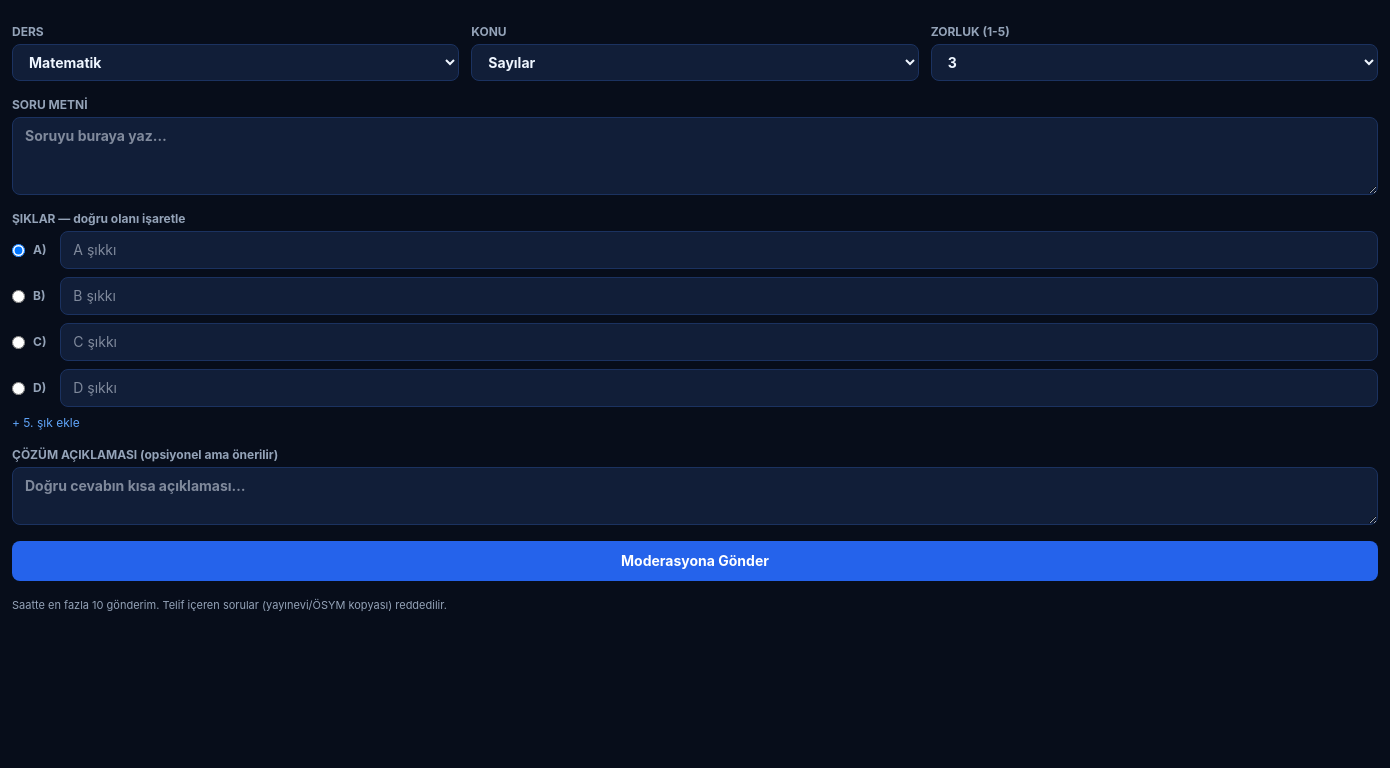
SubmitQuestionClient › 5. şık ekle/kaldır; kaldırınca answer=4 sıfırlanır
Click the button "+ 5. şık ekle". click: (46, 423)
box: [12,415,80,431]
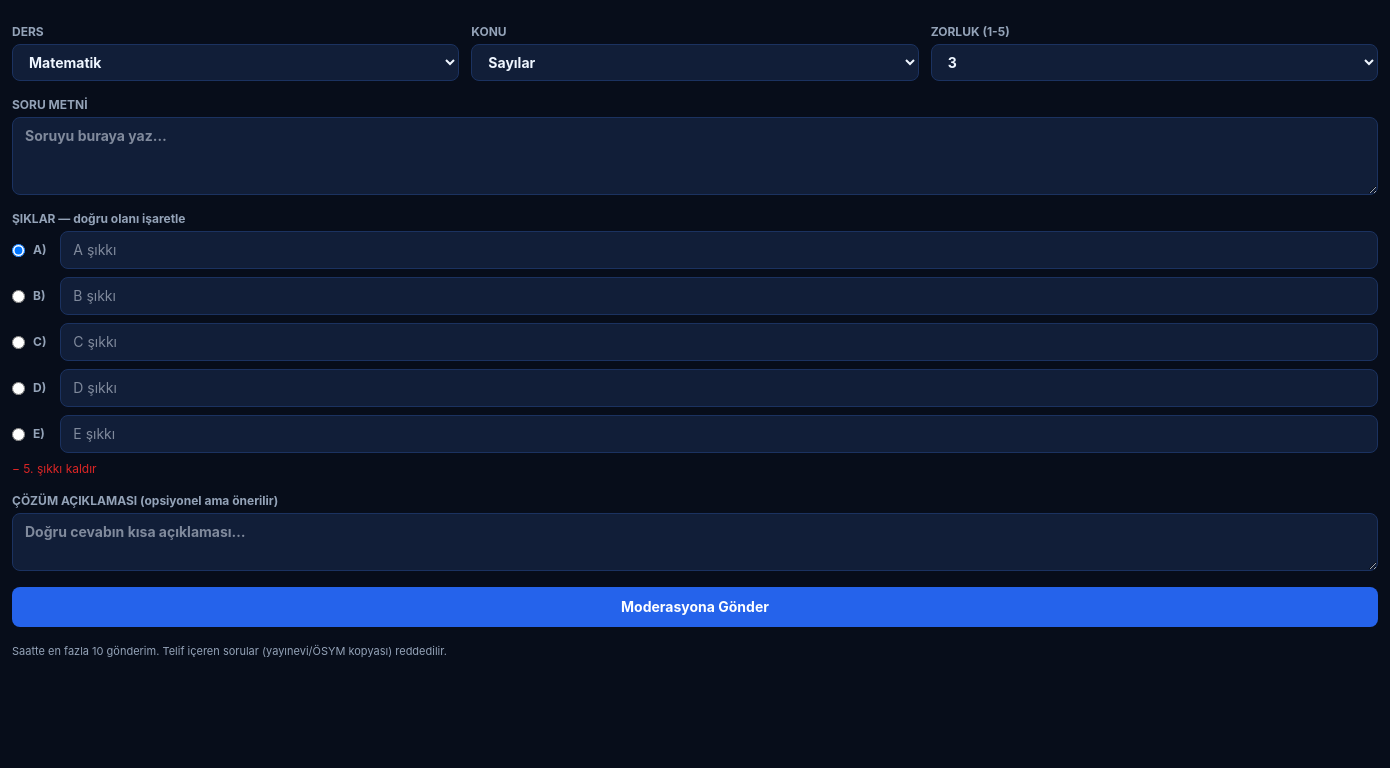
Expected: the field with placeholder "E şıkkı" is shown, [60,415,1378,453]
Click the radio button named "Doğru cevap E". click: (18, 434)
box: [12,428,25,440]
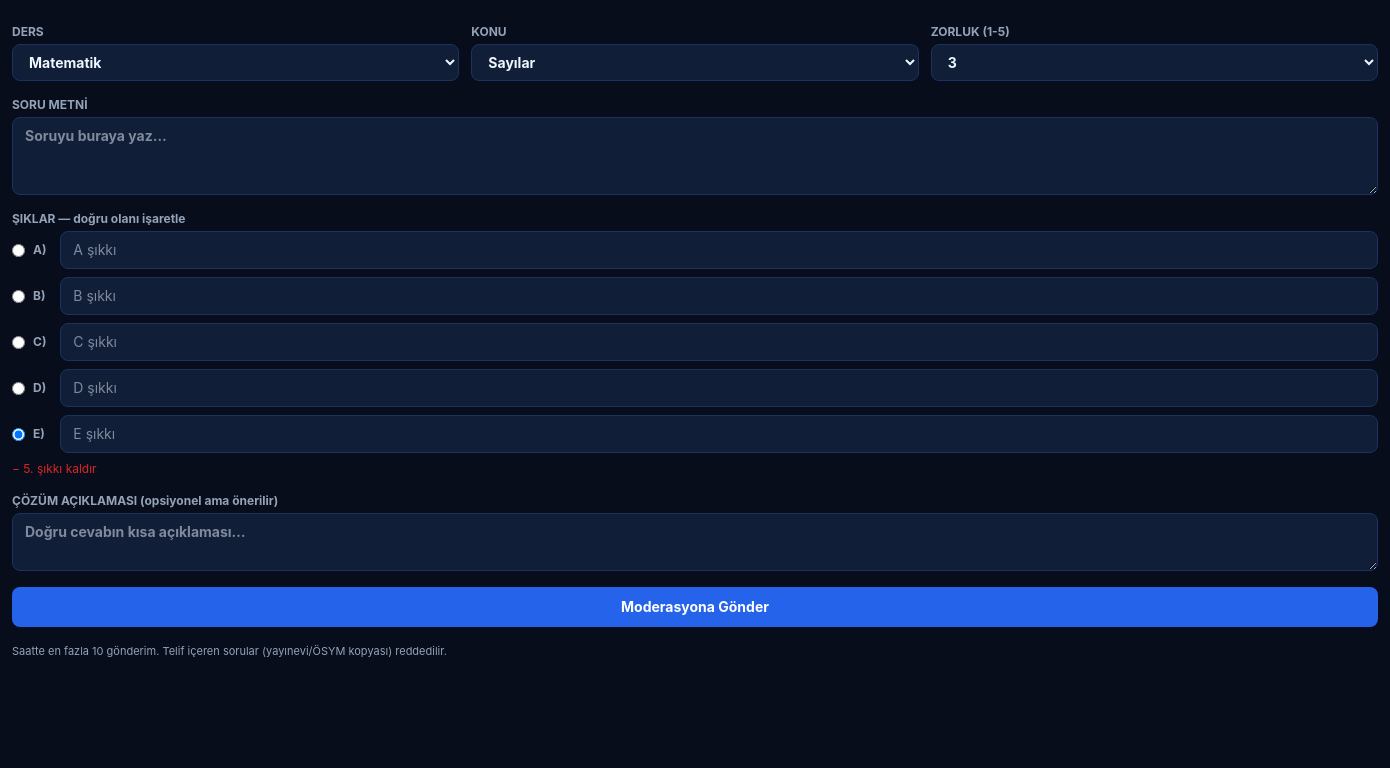
Click the button "− 5. şıkkı kaldır". click: (54, 469)
box: [12,461,97,477]
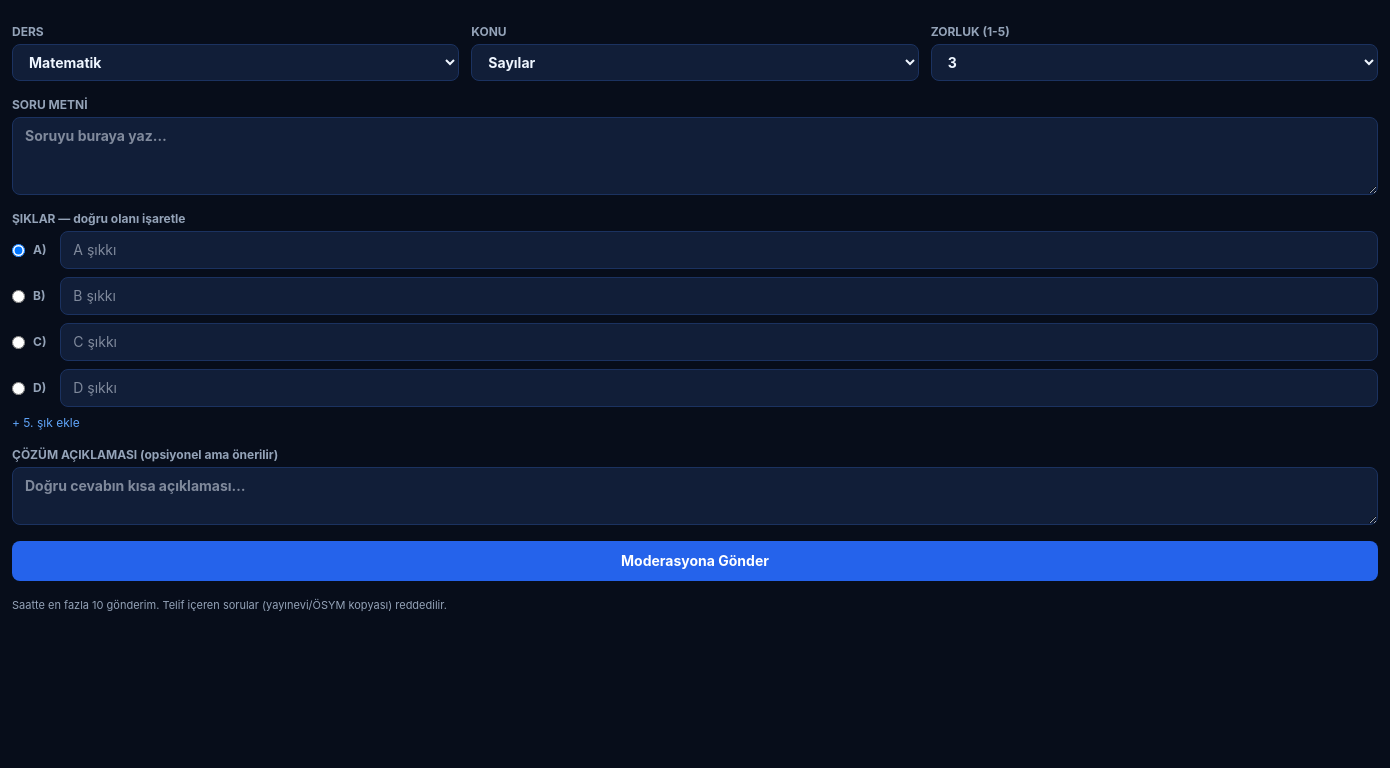
Expected: the field with placeholder "E şıkkı" is not shown
Expected: the radio button named "Doğru cevap A" is checked, [12,244,25,256]
